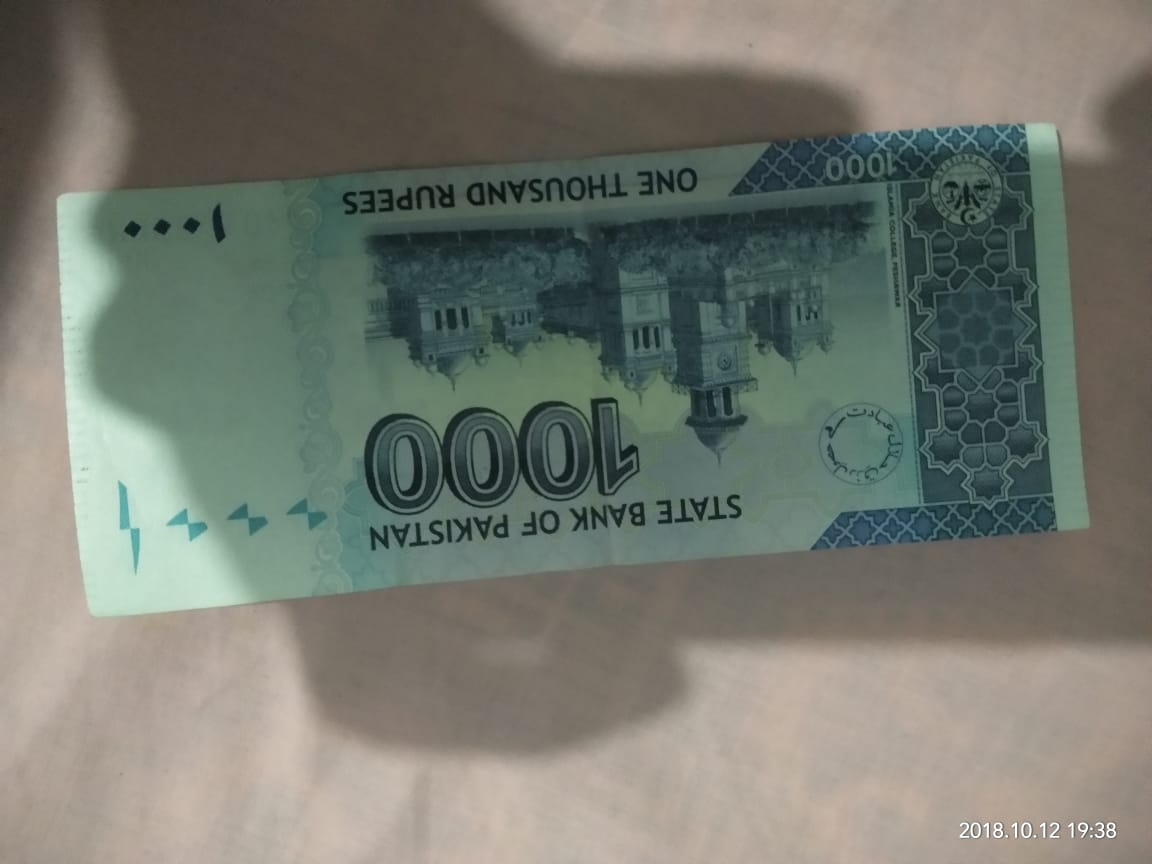1000 rupee: (59, 129, 1074, 632)
